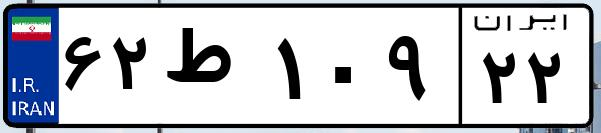0: (330, 28, 385, 110)
1: (270, 28, 330, 110)
2: (475, 38, 525, 113), (525, 38, 570, 115), (110, 28, 158, 98)
6: (57, 26, 110, 100)
9: (385, 28, 445, 110)
ط: (158, 20, 270, 120)
